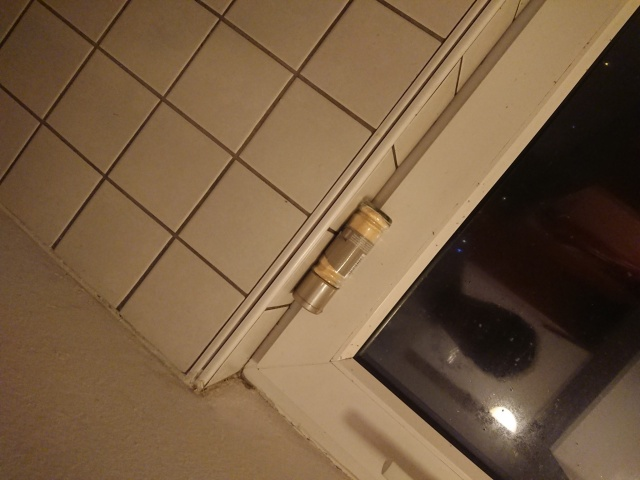Kotanyi Garlic Granules 70g: (289, 199, 395, 317)
